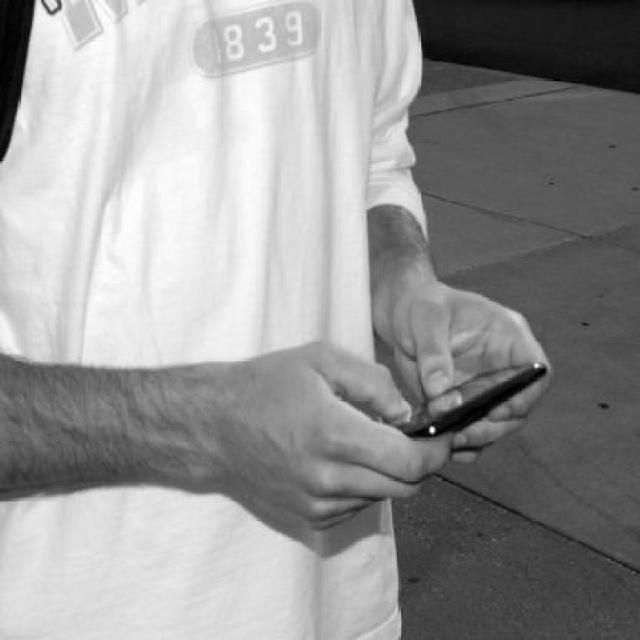fake: (383, 363, 545, 437)
